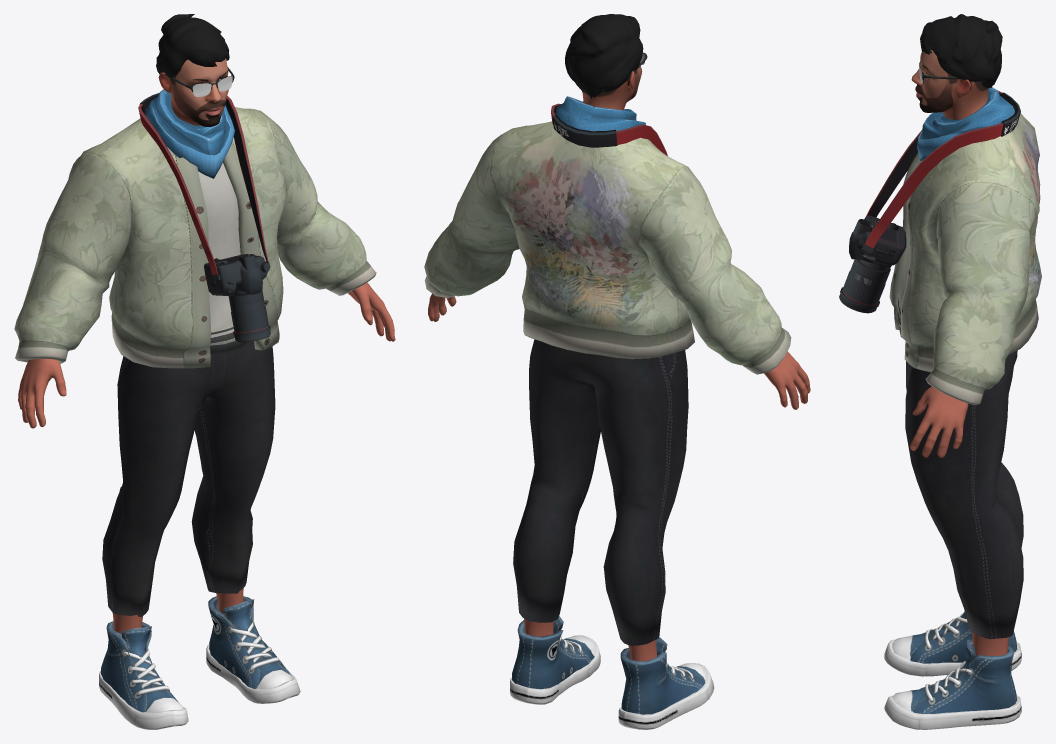
File: photographer.fbx
3 views of the same model, side by side, from view 1: azimuth 30°, elevation 25°; view 2: azimuth 150°, elevation 25°; view 3: azimuth 270°, elevation 25° (orthographic).
Parts seen in each view (by area): view 1: Wolf3D_Outfit_Top, Wolf3D_Outfit_Bottom, Wolf3D_Outfit_Footwear, Object_23, Wolf3D_Body, Wolf3D_Hair, Wolf3D_Head; view 2: Wolf3D_Outfit_Top, Wolf3D_Outfit_Bottom, Wolf3D_Outfit_Footwear, Wolf3D_Hair, Object_23, Wolf3D_Body, Wolf3D_Head; view 3: Wolf3D_Outfit_Top, Wolf3D_Outfit_Bottom, Wolf3D_Outfit_Footwear, Object_23, Wolf3D_Hair, Wolf3D_Body, Wolf3D_Head.
Boxes of the visible parts, x1,y1,x2,y2 form: Wolf3D_Outfit_Top: [14, 107, 376, 368]; Wolf3D_Outfit_Bottom: [102, 341, 275, 616]; Wolf3D_Outfit_Footwear: [99, 596, 300, 729]; Object_23: [138, 89, 270, 342]; Wolf3D_Body: [18, 282, 395, 634]; Wolf3D_Hair: [156, 14, 229, 77]; Wolf3D_Head: [158, 58, 228, 126]; Wolf3D_Outfit_Top: [424, 121, 791, 374]; Wolf3D_Outfit_Bottom: [513, 339, 688, 645]; Wolf3D_Outfit_Footwear: [510, 616, 714, 729]; Wolf3D_Hair: [565, 14, 643, 98]; Object_23: [551, 96, 667, 155]; Wolf3D_Body: [428, 293, 810, 661]; Wolf3D_Head: [582, 66, 642, 110]; Wolf3D_Outfit_Top: [889, 113, 1041, 405]; Wolf3D_Outfit_Bottom: [905, 350, 1023, 639]; Wolf3D_Outfit_Footwear: [884, 611, 1021, 729]; Object_23: [839, 87, 1020, 313]; Wolf3D_Hair: [920, 14, 1002, 88]; Wolf3D_Body: [910, 386, 1008, 655]; Wolf3D_Head: [911, 50, 988, 119].
Bounding box in the file's own units: 106 × 187 × 50.89.
10 materials, 10 textured.
